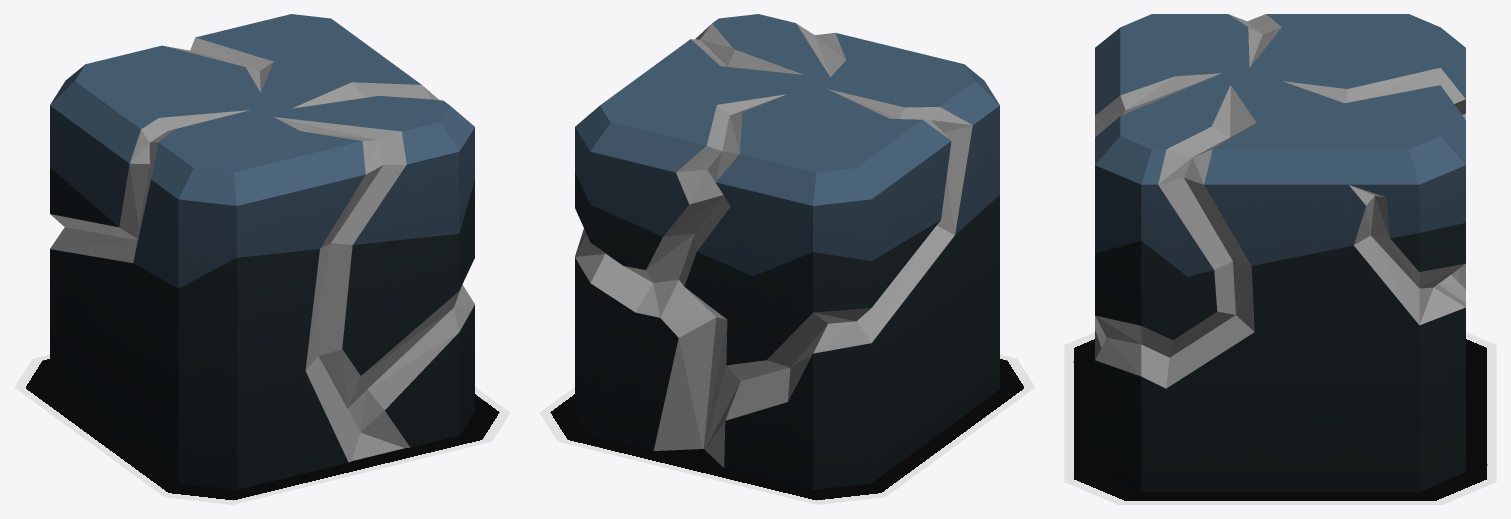
Rendered from breakable_wall.FBX.
3 views of the same model, side by side, from view 1: azimuth 30°, elevation 25°; view 2: azimuth 150°, elevation 25°; view 3: azimuth 270°, elevation 25° (orthographic). The views are drawn at different scales.
Visible parts, largest first — view 1: breakable_wall, breakable_wall_soft_shadow; view 2: breakable_wall, breakable_wall_soft_shadow; view 3: breakable_wall, breakable_wall_soft_shadow.
Part boxes in pixels (left/top/right/bottom): breakable_wall: left=50, top=14, right=474, bottom=489; breakable_wall_soft_shadow: left=14, top=354, right=510, bottom=504; breakable_wall: left=575, top=14, right=999, bottom=489; breakable_wall_soft_shadow: left=539, top=354, right=1035, bottom=504; breakable_wall: left=1095, top=14, right=1465, bottom=491; breakable_wall_soft_shadow: left=1064, top=332, right=1496, bottom=504.
Bounding box in the file's own units: 1166 × 1000 × 1166.
